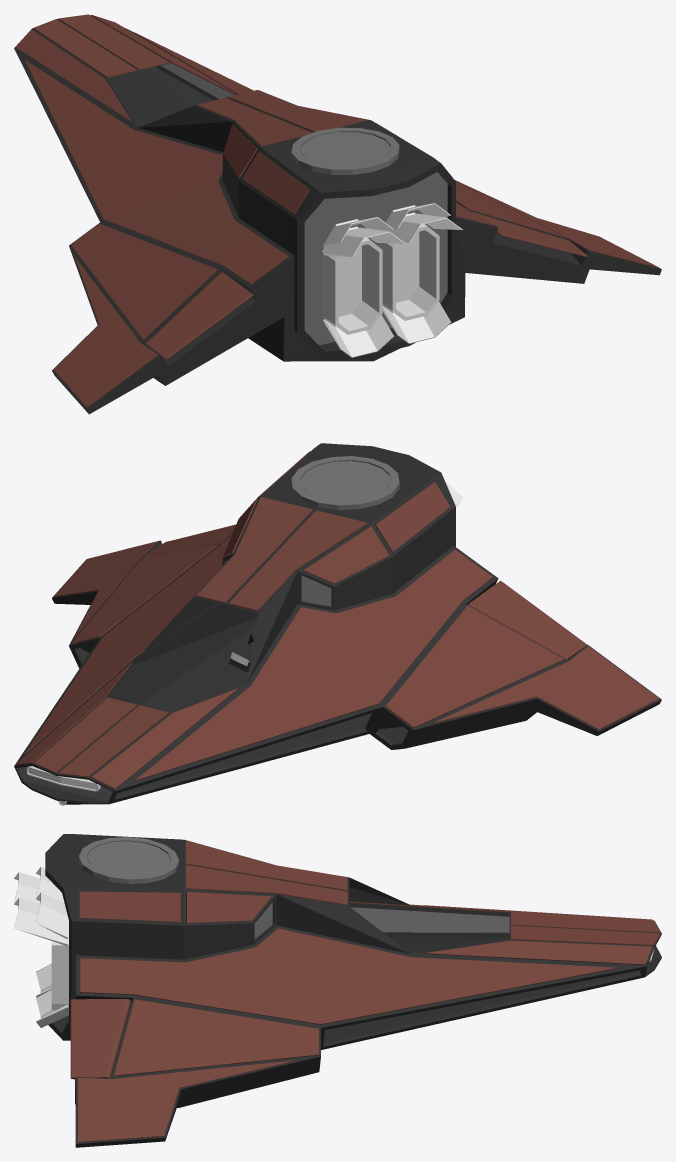
File: Ship.fbx
The picture shows the model from 3 angles, top to bottom: view 1: azimuth 30°, elevation 25°; view 2: azimuth 150°, elevation 25°; view 3: azimuth 270°, elevation 25°; orthographic projection. The views are drawn at different scales.
Parts seen in each view (by area): view 1: Ship; view 2: Ship; view 3: Ship.
Boxes of the visible parts, x1,y1,x2,y2 form: Ship: (14,14,661,414); Ship: (14,443,661,805); Ship: (14,834,661,1147).
Size of the model in its own units: 20.59 by 6.63 by 21.79.
